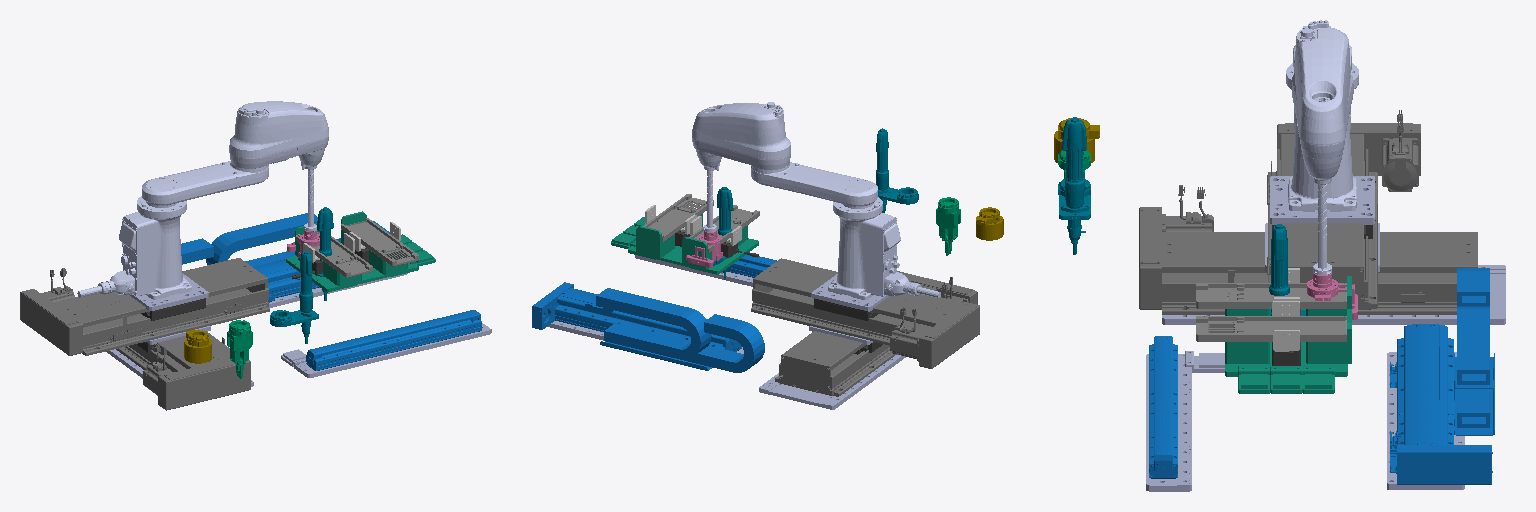
The robot description file, URDF, robot "keti_workcell_description":
<?xml version="1.0" encoding="utf-8"?>
<!-- This URDF was automatically created by SolidWorks to URDF Exporter! Originally created by
[author] ([email redacted]) 
     Commit Version: 1.6.0-4-g7f85cfe  Build Version: 1.6.7995.38578
     For more information, please see http://wiki.ros.org/sw_urdf_exporter -->
<robot name="keti_workcell_description">
	<link name="world" />
	<!-- <joint name="world_base_UR" type="fixed">
		<origin xyz="0 0 0.0135" rpy="0 0 0" />
		<parent link="world" />
		<child link="base_UR" />
		<axis xyz="0 0 0" />
	</joint> -->

	<!-- UR robot -->
	<!-- <link name="base_UR">
		<visual>
			<geometry>
				<mesh filename="package://keti_workcell_description/meshes/base1.STL" />
			</geometry>
			<material name="base_color">
				<color rgba="0.89 0.91 0.93 1" />
			</material>
		</visual>
	</link>
	<link name="UR_jig">
		<visual>
			<geometry>
				<mesh filename="package://keti_workcell_description/meshes/UR_jig.STL"/>
			</geometry>
			<material name="">
				<color rgba="0.69 0.71 0.83 1" />
			</material>
		</visual>
	</link>
	<joint name="base_UR_to_UR_jig" type="fixed">
		<origin xyz="-0.00017 0.04561 0.835" rpy="0 0 0"/>
		<parent link="base_UR"/>
		<child link="UR_jig"/>
		<axis xyz="0 0 0"/>
	</joint>
	<link name="base_link">
		<visual>
			<geometry>
			  <mesh filename="package://keti_workcell_description/meshes/UR10e/base_link.STL" />
			</geometry>
			<material name="">
			  <color rgba="0.792156862745098 0.819607843137255 0.933333333333333 1" />
			</material>
		</visual>
	</link>
	<link name="link1">
		<visual>
			<geometry>
				<mesh filename="package://keti_workcell_description/meshes/UR10e/link1.STL" />
			</geometry>
			<material name="">
				<color rgba="0.79216 0.81961 0.93333 1" />
			</material>
		</visual>
	</link>
	<link name="link2">
		<visual>
			<geometry>
				<mesh filename="package://keti_workcell_description/meshes/UR10e/link2.STL" />
			</geometry>
			<material name="">
				<color rgba="0.79216 0.81961 0.93333 1" />
			</material>
		</visual>
	</link>
	<link name="link3">
		<visual>
			<geometry>
				<mesh filename="package://keti_workcell_description/meshes/UR10e/link3.STL" />
			</geometry>
			<material name="">
				<color rgba="0.79216 0.81961 0.93333 1" />
			</material>
		</visual>
	</link>
	<link name="link4">
		<visual>
			<geometry>
				<mesh filename="package://keti_workcell_description/meshes/UR10e/link4.STL" />
			</geometry>
			<material name="">
				<color rgba="0.79216 0.81961 0.93333 1" />
			</material>
		</visual>
	</link>
	<link name="link5">
		<visual>
			<geometry>
				<mesh filename="package://keti_workcell_description/meshes/UR10e/link5.STL" />
			</geometry>
			<material name="">
				<color rgba="0.79216 0.81961 0.93333 1" />
			</material>
		</visual>
	</link>
	<link name="link6">
		<visual>
			<geometry>
				<mesh filename="package://keti_workcell_description/meshes/UR10e/link6.STL" />
			</geometry>
			<material name="">
				<color rgba="0.79216 0.81961 0.93333 1" />
			</material>
		</visual>
	</link>
	<joint name="UR_jig_to_UR10e" type="fixed">
		<origin xyz="0 0 0" rpy="0 0 3.1416"/>
		<parent link="UR_jig"/>
		<child link="base_link"/>
		<axis xyz="0 0 0"/>
	</joint>
	<joint name="q1" type="revolute">
		<origin xyz="0 0 0" rpy="0 0 0" />
		<parent link="base_link" />
		<child link="link1" />
		<axis xyz="0 0 1" />
		<limit lower="-3.14" upper="3.14" effort="100" velocity="10" />
	</joint>
	<joint name="q2" type="revolute">
		<origin xyz="0 0 0.1807" rpy="1.5708 1.5708 0" />
		<parent link="link1" />
		<child link="link2" />
		<axis xyz="0 0 1" />
		<limit lower="-3.14" upper="3.14" effort="100" velocity="10" />
	</joint>
	<joint name="q3" type="revolute">
		<origin xyz="-0.6127 0 0" rpy="0 0 0" />
		<parent link="link2" />
		<child link="link3" />
		<axis xyz="0 0 1" />
		<limit lower="-3.14" upper="3.14" effort="100" velocity="10" />
	</joint>
	<joint name="q4" type="revolute">
		<origin xyz="-0.57155 0 0" rpy="0 0 -1.5708" />
		<parent link="link3" />
		<child link="link4" />
		<axis xyz="0 0 1" />
		<limit lower="-3.14" upper="3.14" effort="100" velocity="10" />
	</joint>
	<joint name="q5" type="revolute">
		<origin xyz="0 0 0.17415" rpy="1.5708 0 0" />
		<parent link="link4" />
		<child link="link5" />
		<axis xyz="0 0 1" />
		<limit lower="-3.14" upper="3.14" effort="100" velocity="10" />
	</joint>
	<joint name="q6" type="revolute">
		<origin xyz="0 0 0.11985" rpy="-1.5708 0 0" />
		<parent link="link5" />
		<child link="link6" />
		<axis xyz="0 0 1" />
		<limit lower="-3.14" upper="3.14" effort="100" velocity="10" />
	</joint>
	<link name="tool_changer">
		<visual>
			<geometry>
				<mesh filename="package://keti_workcell_description/meshes/tool_changer.STL"/>
			</geometry>
			<material name="">
				<color rgba="0.2 0.6 0.4 1"/>
			</material>
		</visual>
	</link>
	<joint name="link6_to_tool_changer" type="fixed">
		<origin xyz="0 0 0.18255" rpy="0 0 0"/>
		<parent link="link6"/>
		<child link="tool_changer"/>
		<axis xyz="0 0 0"/>
	</joint>
	<link name="koras_2f">
		<visual>
			<geometry>
				<mesh filename="package://keti_workcell_description/meshes/koras_2f.STL"/>
			</geometry>
			<material name="koras_2f_color">
				<color rgba="0.6 0.5 0.9 1"/>
			</material>
		</visual>
	</link>
	<joint name="tool_changer_to_koras_2f" type="fixed">
		<origin xyz="0 0 0" rpy="0 0 0"/>
		<parent link="tool_changer"/>
		<child link="koras_2f"/>
		<axis xyz="0 0 0"/>
	</joint> -->


	
	<!-- additional axis & DENSO robot -->
	<link name="base_DENSO">
		<visual>
			<geometry>
				<mesh filename="package://keti_workcell_description/meshes/base1.STL"/>
			</geometry>
			<material name="base_color">
				<color rgba="0.89 0.91 0.93 1" />
			</material>
		</visual>
	</link>
	<joint name="world_to_base_DENSO" type="fixed">
		<origin xyz="-0.80034 0.81298 0" rpy="0 0 -1.5708"/>
		<parent link="world"/>
		<child link="base_DENSO"/>
		<axis xyz="0 0 0"/>
	</joint>
	<link name="add_axis_jig1">
		<visual>
			<geometry>
				<mesh filename="package://keti_workcell_description/meshes/add_axis_jig1.STL"/>
			</geometry>
			<material name="">
				<color rgba="0.69 0.71 0.83 1" />
			</material>
		</visual>
	</link>
	<joint name="base_DENSO_to_add_axis_jig1" type="fixed">
		<origin xyz="-0.02489 0.17061 0.8315" rpy="0 0 0"/>
		<parent link="base_DENSO"/>
		<child link="add_axis_jig1"/>
		<axis xyz="0 0 0"/>
	</joint>
	<link name="slider_base1">
		<visual>
			<geometry>
				<mesh filename="package://keti_workcell_description/meshes/slider_base.STL"/>
			</geometry>
			<material name="slider_base_color">
				<color rgba="0.5 0.5 0.5 1"/>
			</material>
		</visual>
	</link>
	<joint name="add_axis_jig1_to_slider_base1" type="fixed">
		<origin xyz="0.37507 0 0.05482" rpy="1.5709 0 -1.5709"/>
		<parent link="add_axis_jig1"/>
		<child link="slider_base1"/>
		<axis xyz="0 0 0"/>
	</joint>
	<link name="slider1">
		<visual>
			<geometry>
				<mesh filename="package://keti_workcell_description/meshes/slider.STL"/>	
			</geometry>
			<material name="">
				<color rgba="0.3 0.3 0.3 1"/>
			</material>
		</visual>
	</link>
	<joint name="s1" type="prismatic">
		<origin xyz="0 0 0" rpy="0 0 0"/>
		<parent link="slider_base1"/>
		<child link="slider1"/>
		<axis xyz="0 0 1"/>
		<limit lower="0.05" upper="0.45" effort="100" velocity="10" />
	</joint>
	<link name="add_axis_jig2">
		<visual>
			<geometry>
				<mesh filename="package://keti_workcell_description/meshes/add_axis_jig2.STL"/>
			</geometry>
			<material name="">
				<color rgba="0.69 0.71 0.83 1" />
			</material>
		</visual>
	</link>
	<joint name="slider1_to_add_axis_jig2" type="fixed">
		<origin xyz="0 0.05926 0.1" rpy="-1.5709 0 0"/>
		<parent link="slider1"/>
		<child link="add_axis_jig2"/>
		<axis xyz="0 0 0"/>
	</joint>
	<link name="slider_base2">
		<visual>
			<geometry>
				<mesh filename="package://keti_workcell_description/meshes/slider_base.STL"/>
			</geometry>
			<material name="slider_base_color"/>
		</visual>
	</link>
	<joint name="add_axis_jig2_to_slider_base2" type="fixed">
		<origin xyz="0.35 0 0.05482" rpy="1.5709 0 -1.5709"/>
		<parent link="add_axis_jig2"/>
		<child link="slider_base2"/>
		<axis xyz="0 0 0"/>
	</joint>
	<link name="slider2">
		<visual>
			<geometry>
				<mesh filename="package://keti_workcell_description/meshes/slider.STL"/>	
			</geometry>
			<material name="">
				<color rgba="0.3 0.3 0.3 1"/>
			</material>
		</visual>
	</link>
	<joint name="s2" type="prismatic">
		<origin xyz="0 0 0" rpy="0 0 0"/>
		<parent link="slider_base2"/>
		<child link="slider2"/>
		<axis xyz="0 0 1"/>
		<limit lower="0.05" upper="0.45" effort="100" velocity="10" />
	</joint>
	<link name="DENSO_jig">
		<visual>
			<geometry>
				<mesh filename="package://keti_workcell_description/meshes/DENSO_jig.STL"/>	
			</geometry>
			<material name="">
				<color rgba="0.69 0.71 0.83 1" />
			</material>
		</visual>
	</link>
	<joint name="slider2_to_DENSO_jig" type="fixed">
		<origin xyz="0 0.06276 0.1" rpy="-1.5709 0 0"/>
		<parent link="slider2"/>
		<child link="DENSO_jig"/>
		<axis xyz="0 0 0"/>
	</joint>
	<link name="d_link0">
		<visual>
			<geometry>
				<mesh filename="package://keti_workcell_description/meshes/DENSO/d_link0.STL" />
			</geometry>
			<material name="">
				<color rgba="0.79216 0.81961 0.93333 1" />
			</material>
		</visual>
	</link>
	<joint name="denso_jig_to_robot" type="fixed">
		<origin xyz="0 0 0" rpy="0 0 -1.5709"/>
		<parent link="DENSO_jig"/>
		<child link="d_link0"/>
		<axis xyz="0 0 0"/>
	</joint>
	<link name="d_link1">
		<visual>
			<geometry>
				<mesh filename="package://keti_workcell_description/meshes/DENSO/d_link1.STL" />
			</geometry>
			<material name="">
				<color rgba="0.79216 0.81961 0.93333 1" />
			</material>
		</visual>
	</link>
	<joint name="d_q1" type="revolute">
		<origin xyz="0 0 0.37011" rpy="0 0 0" />
		<parent link="d_link0" />
		<child link="d_link1" />
		<axis xyz="0 0 1" />
		<limit lower="-3.14" upper="3.14" effort="100" velocity="10" />
	</joint>
	<link name="d_link2">
		<visual>
			<geometry>
				<mesh filename="package://keti_workcell_description/meshes/DENSO/d_link2.STL" />
			</geometry>
			<material name="">
				<color rgba="0.792156862745098 0.819607843137255 0.933333333333333 1" />
			</material>
		</visual>
	</link>
	<joint name="d_q2" type="revolute">
		<origin xyz="0.325 0 0" rpy="0 0 0" />
		<parent link="d_link1" />
		<child link="d_link2" />
		<axis xyz="0 0 1" />
		<limit lower="-3.14" upper="3.14" effort="100" velocity="10" />
	</joint>
	<link name="d_link3">
		<visual>
			<geometry>
				<mesh filename="package://keti_workcell_description/meshes/DENSO/d_link3.STL" />
			</geometry>
			<material name="">
				<color rgba="0.79216 0.81961 0.93333 1" />
			</material>
		</visual>
	</link>
	<joint name="d_q3" type="prismatic">
		<origin xyz="0.225 0 0" rpy="3.1416 0 0" />
		<parent link="d_link2" />
		<child link="d_link3" />
		<axis xyz="0 0 1" />
		<limit lower="-0.206" upper="0.0" effort="100" velocity="10" />
	</joint>
	<link name="d_end"/>
	<joint name="d_q3_to_end" type="fixed">
		<origin xyz="0 0 0.32900" rpy="3.1416 0 0"/>
		<parent link="d_link3"/>
		<child link="d_end"/>
		<axis xyz="0 0 0"/>
	</joint>
	<link name="denso_tool_changer">
		<visual>
			<geometry>
				<mesh filename="package://keti_workcell_description/meshes/denso_tool_changer.STL"/>
			</geometry>
		</visual>
		<material name="">
			<color 	rgba="0.6587 0.128 0.778 1"/>
		</material>
	</link>
	<joint name="denso_end_to_tool_changer" type="fixed">
		<origin xyz="0 0 -0.001" rpy="0 0 0"/>
		<parent link="d_end"/>
		<child link="denso_tool_changer"/>
		<axis xyz="0 0 0"/>
	</joint>
	<link name="ATC">
		<visual>
			<geometry>
				<mesh filename="package://keti_workcell_description/meshes/ATC.STL"/>
			</geometry>
			<material name="ATC_color">
				<color rgba="0.0 0.5 0.6 1"/>
			</material>
		</visual>
	</link>
	<joint name="denso_tool_changer_to_ATC" type="fixed">
		<origin xyz="0 0 -0.06" rpy="3.1416 0 -1.5709"/>
		<parent link="denso_tool_changer"/>
		<child link="ATC"/>
		<axis xyz="0 0 0"/>
	</joint>


	<!-- ARF -->
	<link name="base_ARF">
		<visual>
			<geometry>
				<mesh filename="package://keti_workcell_description/meshes/base2.STL"/>
			</geometry>
			<material name="base_color"/>
		</visual>
	</link>
	<joint name="world_to_base_ARF" type="fixed">
		<origin xyz="-0.00026 0.80842 -0.0135" rpy="0 0 3.1416"/>
		<parent link="world"/>
		<child link="base_ARF"/>
		<axis xyz="0 0 0"/>
	</joint>
	<link name="ARF_jig">
		<visual>
			<geometry>
				<mesh filename="package://keti_workcell_description/meshes/ARF_jig.STL"/>
			</geometry>
			<material name="">
				<color rgba="0.69 0.71 0.83 1" />
			</material>
		</visual>
	</link>
	<joint name="base_ARF_to_ARF_jig" type="fixed">
		<origin xyz="-0.02392 0.03311 0.8335" rpy="0 0 -1.5709"/>
		<parent link="base_ARF"/>
		<child link="ARF_jig"/>
		<axis xyz="0 0 0"/>
	</joint>
	<link name="ARF_slider_base1">
		<visual>
			<geometry>
				<mesh filename="package://keti_workcell_description/meshes/ARF_slider_base1.STL"/>	
			</geometry>
			<material name="">
				<color rgba="0.1 0.5 0.8 1"/>
			</material>
		</visual>
	</link>
	<joint name="ARF_jig_to_slider_base1" type="fixed">
		<origin xyz="0.29294 -0.31 0.05514" rpy="-1.5709 0 0"/>
		<parent link="ARF_jig"/>
		<child link="ARF_slider_base1"/>
		<axis xyz="0 0 0"/>
	</joint>
	<link name="ARF_slider1">
		<visual>
			<geometry>
				<mesh filename="package://keti_workcell_description/meshes/ARF_slider1.STL"/>
			</geometry>
			<material name="">
				<color rgba="0.7 0.5 0.3 1"/>
			</material>
		</visual>
	</link>
	<joint name="s3" type="prismatic">
		<origin xyz="-0.03044 -0.02835 0.0" rpy="0 0 0"/>
		<parent link="ARF_slider_base1"/>
		<child link="ARF_slider1"/>
		<axis xyz="0 0 1"/>
		<limit lower="0.045" upper="0.445" effort="100" velocity="10" />
	</joint>
	<link name="s4_dummy"/>
	<joint name="ARF_slider1_s4_dummy" type="fixed">
		<origin xyz="-0.569 -0.06672 0.06" rpy="0 1.5709 0"/>
		<parent link="ARF_slider1"/>
		<child link="s4_dummy"/>
		<axis xyz="0 0 0"/>
	</joint>
	<link name="ARF_slider2">
		<visual>
			<geometry>
				<mesh filename="package://keti_workcell_description/meshes/ARF_slider2.STL"/>
			</geometry>
			<material name="">
				<color rgba="0.5 0.4 0.6 1"/>
			</material>
		</visual>
	</link>
	<joint name="s4" type="prismatic">
		<origin xyz="0 -0.03128 0" rpy="0 0 0"/>
		<parent link="s4_dummy"/>
		<child link="ARF_slider2"/>
		<axis xyz="0 0 1"/>
		<limit lower="0.055" upper="0.355" effort="100" velocity="10" />
	</joint>
	<link name="ARF_jig2">
		<visual>
			<geometry>
				<mesh filename="package://keti_workcell_description/meshes/ARF_jig2.STL"/>
			</geometry>
			<material name="">
				<color rgba="0.1 0.6 0.5 1"/>
			</material>
		</visual>
	</link>
	<joint name="ARF_slider2_jig2" type="fixed">
		<origin xyz="0 -0.01652 0.06" rpy="1.5709 -1.5709 0"/>
		<parent link="ARF_slider2"/>
		<child link="ARF_jig2"/>
		<axis xyz="0 0 0"/>
	</joint>
	<link name="obj1">
		<visual>
			<geometry>
				<mesh filename="package://keti_workcell_description/meshes/obj1.STL"/>
			</geometry>
			<material name="">
				<color rgba="0.57 0.57 0.57 1" />
			</material>
		</visual>
	</link>
	<link name="obj2">
		<visual>
			<geometry>
				<mesh filename="package://keti_workcell_description/meshes/obj2.STL"/>
			</geometry>
			<material name="">
				<color rgba="0.57 0.57 0.57 1" />
			</material>
		</visual>
	</link>
	<joint name="ARF_jig2_to_obj1" type="fixed">
		<origin xyz="-0.02828 0.085 0.073" rpy="0 0 -1.5709"/>
		<parent link="ARF_jig2"/>
		<child link="obj1"/>
	</joint>
	<joint name="ARF_jig2_to_obj2" type="fixed">
		<origin xyz="-0.01802 -0.085 0.073" rpy="0 0 -1.5709"/>
		<parent link="ARF_jig2"/>
		<child link="obj2"/>
	</joint>
	<link name="zimmer1">
		<visual>
			<geometry>
				<mesh filename="package://keti_workcell_description/meshes/zimmer.STL"/>
			</geometry>	
			<material name="zimmer_color">
				<color rgba="0.3 0.3 0.3 1"/>
			</material>
		</visual>
	</link>
	<link name="zimmer2">
		<visual>
			<geometry>
				<mesh filename="package://keti_workcell_description/meshes/zimmer.STL"/>
			</geometry>	
			<material name="zimmer_color"/>
		</visual>
	</link>
	<joint name="ARF_jig2_to_zimmer1" type="fixed">
		<origin xyz="0 0.085 0.0552" rpy="1.5709 0 0"/>
		<parent link="ARF_jig2"/>
		<child link="zimmer1"/>
		<axis xyz="0 0 0"/>
	</joint>
	<joint name="ARF_jig2_to_zimmer2" type="fixed">
		<origin xyz="0 -0.085 0.0552" rpy="1.5709 0 0"/>
		<parent link="ARF_jig2"/>
		<child link="zimmer2"/>
		<axis xyz="0 0 0"/>
	</joint>
	<link name="tooltip11">
		<visual>
			<geometry>
				<mesh filename="package://keti_workcell_description/meshes/tooltip.STL"/>
			</geometry>
			<material name="tooltip_color">
				<color rgba="0.8 0.8 0.8 1"/>
			</material>
		</visual>
	</link>
	<link name="tooltip12">
		<visual>
			<geometry>
				<mesh filename="package://keti_workcell_description/meshes/tooltip.STL"/>
			</geometry>
			<material name="tooltip_color">
				<color rgba="0.8 0.8 0.8 1"/>
			</material>
		</visual>
	</link>
	<link name="tooltip21">
		<visual>
			<geometry>
				<mesh filename="package://keti_workcell_description/meshes/tooltip.STL"/>
			</geometry>
			<material name="tooltip_color">
				<color rgba="0.8 0.8 0.8 1"/>
			</material>
		</visual>
	</link>
	<link name="tooltip22">
		<visual>
			<geometry>
				<mesh filename="package://keti_workcell_description/meshes/tooltip.STL"/>
			</geometry>
			<material name="tooltip_color">
				<color rgba="0.8 0.8 0.8 1"/>
			</material>
		</visual>
	</link>
	<joint name="s5" type="prismatic">
		<origin xyz="-0.00037 0.00443 -0.041" rpy="0 0 0"/>
		<parent link="zimmer1"/>
		<child link="tooltip11"/>
		<axis xyz="0 0 1"/>
		<limit lower="0.0" upper="0.04" effort="100" velocity="10" />
	</joint>
	<joint name="s6" type="prismatic">
		<origin xyz="-0.00037 0.00443 0.041" rpy="0 3.1416 0"/>
		<parent link="zimmer1"/>
		<child link="tooltip12"/>
		<axis xyz="0 0 1"/>
		<limit lower="0.0" upper="0.04" effort="100" velocity="10" />
	</joint>
	<joint name="s7" type="prismatic">
		<origin xyz="-0.00037 0.00443 -0.041" rpy="0 0 0"/>
		<parent link="zimmer2"/>
		<child link="tooltip21"/>
		<axis xyz="0 0 1"/>
		<limit lower="0.0" upper="0.04" effort="100" velocity="10" />
	</joint>
	<joint name="s8" type="prismatic">
		<origin xyz="-0.00037 0.00443 0.041" rpy="0 3.1416 0"/>
		<parent link="zimmer2"/>
		<child link="tooltip22"/>
		<axis xyz="0 0 1"/>
		<limit lower="0.0" upper="0.04" effort="100" velocity="10" />
	</joint>


	<!-- feeder & tools -->
	<link name="base_ETC">
		<visual>
			<geometry>
				<mesh filename="package://keti_workcell_description/meshes/base2.STL"/>
			</geometry>
			<material name="base_color"/>
		</visual>
	</link>
	<joint name="world_to_base_ETC" type="fixed">
		<origin xyz="-0.80481 0 -0.0135" rpy="0 0 0"/>
		<parent link="world"/>
		<child link="base_ETC"/>
		<axis xyz="0 0 0"/>
	</joint>
	<link name="feeder">
		<visual>
			<geometry>
				<mesh filename="package://keti_workcell_description/meshes/feeder.STL"/>
			</geometry>
			<material name="">
				<color rgba="0.29 0.61 0.93 1" />
			</material>
		</visual>
	</link>
	<joint name="base_ETC_to_feeder" type="fixed">
		<origin xyz="-0.24992 0.19561 0.8465" rpy="0 0 0"/>
		<parent link="base_ETC"/>
		<child link="feeder"/>
		<axis xyz="0 0 0"/>
	</joint>
	<link name="tool_stand">
		<visual>
			<geometry>
				<mesh filename="package://keti_workcell_description/meshes/tool_stand.STL"/>
			</geometry>
			<material name="">
				<color rgba="0.5 0.5 0.5 1"/>
			</material>
		</visual>
	</link>
	<joint name="base_ETC_to_tool_stand" type="fixed">
		<origin xyz="0.15008 0.14561 0.8465" rpy="0 0 -1.5708"/>
		<parent link="base_ETC"/>
		<child link="tool_stand"/>
		<axis xyz="0 0 0"/>
	</joint>
	<link name="koras_2f_stand">
		<visual>
			<geometry>
				<mesh filename="package://keti_workcell_description/meshes/koras_2f.STL"/>
			</geometry>
			<material name="koras_2f_color"/>
		</visual>
	</link>
	<joint name="tool_stand_to_koras_2f" type="fixed">
		<origin xyz="-0.12582 0 0.312" rpy="3.1416 0 1.5709"/>
		<parent link="tool_stand"/>
		<child link="koras_2f_stand"/>
		<axis xyz="0 0 0"/>
	</joint>
	<link name="KRVG_stand">
		<visual>
			<geometry>
				<mesh filename="package://keti_workcell_description/meshes/KRVG.STL"/>
			</geometry>
			<material name="">
				<color rgba="0.6 0.5 0.0 1"/>
			</material>
		</visual>
	</link>
	<joint name="tool_stand_to_KRVG" type="fixed">
		<origin xyz="-0.12582 -0.1525 0.3125" rpy="3.1416 0 1.5709"/>
		<parent link="tool_stand"/>
		<child link="KRVG_stand"/>
		<zxis xyz="0 0 0"/>
	</joint>
	<link name="ATC_stand">
		<visual>
			<geometry>
				<mesh filename="package://keti_workcell_description/meshes/ATC.STL"/>
			</geometry>
			<material name="ATC_color">
				<color rgba="0.0 0.5 0.6 1"/>
			</material>
		</visual>
	</link>
	<joint name="tool_stand_to_ATC" type="fixed">
		<origin xyz="-0.1258 0.1525 0.314" rpy="3.1416 0 1.5709"/>
		<parent link="tool_stand"/>
		<child link="ATC_stand"/>
		<axis xyz="0 0 0"/>
	</joint>
</robot>

--- What the picture shows (computed from the rendered views, not written in the file) ---
The picture shows the robot from 3 angles, left to right: view 1: azimuth 30°, elevation 25°; view 2: azimuth 150°, elevation 25°; view 3: azimuth 270°, elevation 25°; orthographic projection.
Model keti_workcell_description with 37 links and 36 joints (2 revolute, 9 prismatic, 25 fixed), rooted at world, posed all joints at 0 but 4 set to mid-range because 0 is outside their limits (s1 = 0.25, s2 = 0.25, s3 = 0.245, s4 = 0.205).
Links seen in each view (by area): view 1: slider_base2, ARF_slider_base1, d_link0, d_link2, slider_base1, d_link1, ARF_jig2, ARF_jig, obj2, ATC_stand, obj1, koras_2f_stand (+4 smaller); view 2: ARF_slider_base1, slider_base2, d_link0, slider_base1, d_link2, d_link1, ARF_jig2, add_axis_jig1, ATC_stand, obj2, ARF_jig, koras_2f_stand (+6 smaller); view 3: ARF_slider_base1, slider_base1, slider_base2, d_link2, ARF_jig2, ARF_jig, obj2, d_link0, ATC_stand, obj1, DENSO_jig, add_axis_jig1 (+5 smaller).
Link boxes in pixels (x1,y1,x2,y2): slider_base2: (20,258,269,355); ARF_slider_base1: (181,213,481,370); d_link0: (77,196,191,299); d_link2: (229,101,328,169); slider_base1: (116,331,250,410); d_link1: (142,161,268,207); ARF_jig2: (286,211,435,291); ARF_jig: (268,273,491,377); obj2: (341,218,418,266); ATC_stand: (270,251,318,343); obj1: (295,232,372,277); koras_2f_stand: (227,320,252,378); ARF_slider_base1: (532,254,776,372); slider_base2: (751,258,979,368); d_link0: (828,197,940,299); slider_base1: (775,271,977,396); d_link2: (692,102,790,170); d_link1: (751,162,877,208); ARF_jig2: (611,214,758,274); add_axis_jig1: (759,355,905,409); ATC_stand: (876,128,918,212); obj2: (643,194,713,241); ARF_jig: (547,255,752,353); koras_2f_stand: (936,197,960,255); ARF_slider_base1: (1149,268,1494,484); slider_base1: (1139,185,1477,314); slider_base2: (1267,110,1420,309); d_link2: (1292,20,1353,184); ARF_jig2: (1225,276,1351,393); ARF_jig: (1146,351,1464,491); obj2: (1196,316,1346,341); d_link0: (1286,63,1358,211); ATC_stand: (1058,117,1090,254); obj1: (1196,283,1346,308); DENSO_jig: (1270,176,1374,224); add_axis_jig1: (1162,265,1505,324).
Size in the robot's own frame: 1.4 by 0.9864 by 0.8047 metres.
28 mesh visuals loaded from 26 distinct referenced files (21 binary STL); not drawn: 6 (reference not matched to a file when rendering).
